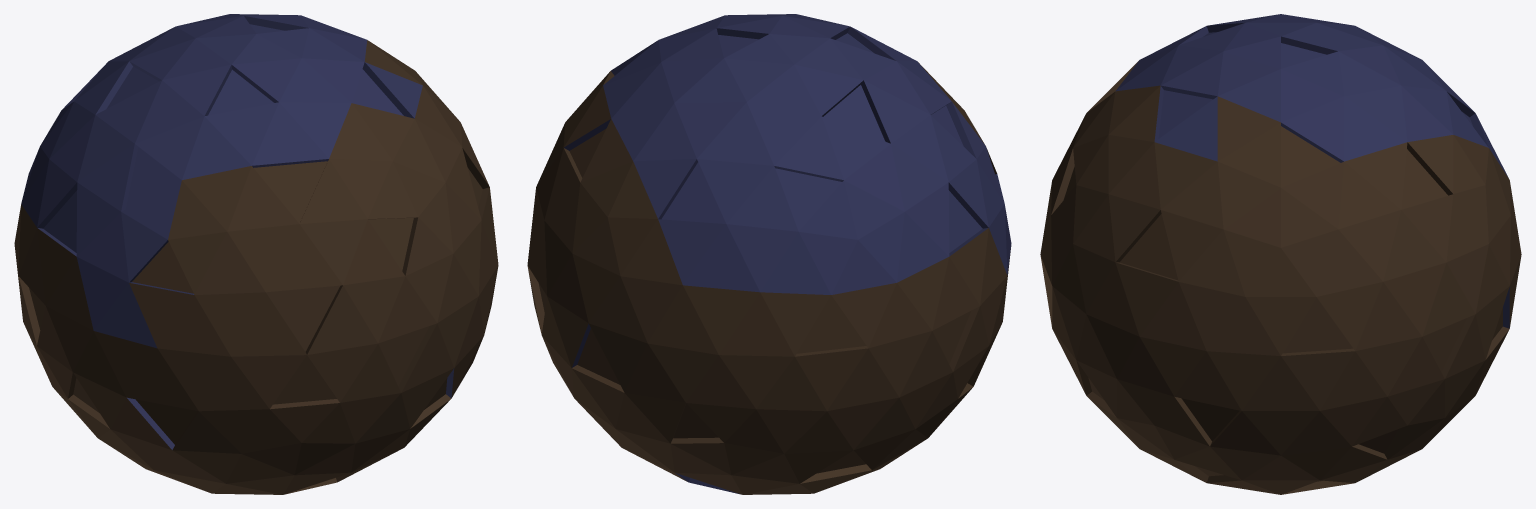
The model's file is callisto.glb.
3 renders of one model, left to right at view 1: azimuth 30°, elevation 25°; view 2: azimuth 150°, elevation 25°; view 3: azimuth 270°, elevation 25°, orthographic.
Visible parts, largest first — view 1: Icosphere; view 2: Icosphere; view 3: Icosphere.
Part boxes in pixels (bbox=[...]): Icosphere: bbox=[14, 14, 498, 494]; Icosphere: bbox=[527, 14, 1011, 494]; Icosphere: bbox=[1040, 14, 1521, 494].
Bounding box in the file's own units: 0.482 × 0.482 × 0.482.
